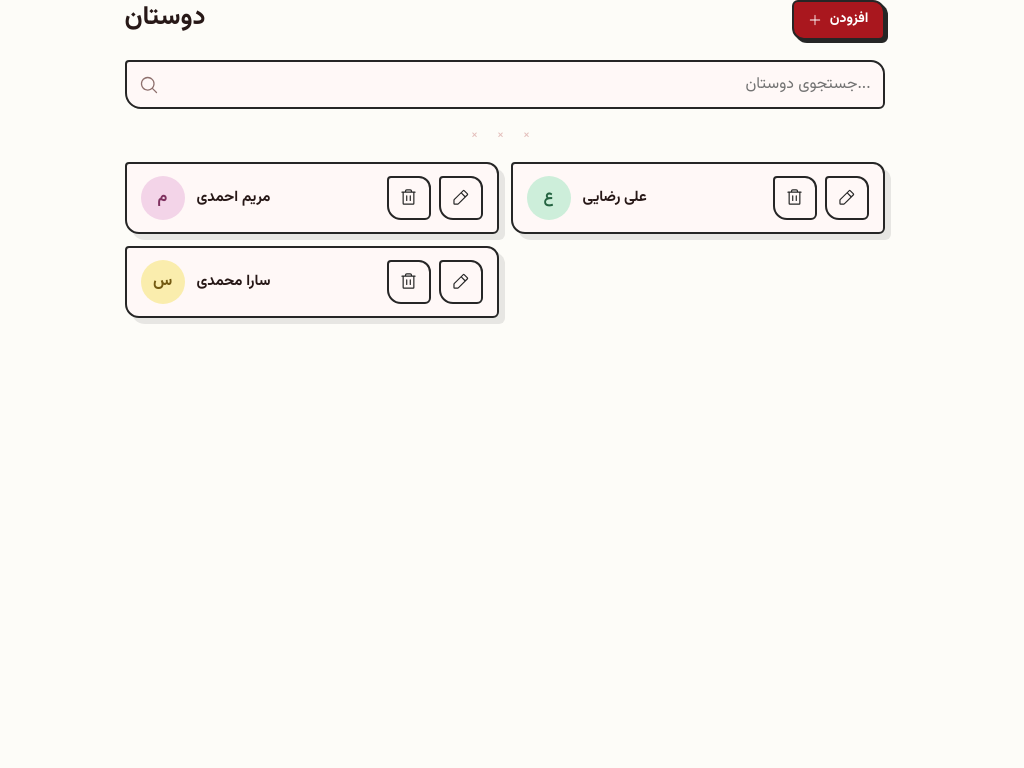
Test: FriendsPage › edit friend › shows a Persian message on a 404 (friend already deleted elsewhere)
Check: the text "مریم احمدی" is shown, box [196,186,270,209]
What coordinates should you click on to do the following:
click the button named "ویرایش مریم احمدی"
I would click on:
 (460, 198)
Its box is [438,176,482,220].
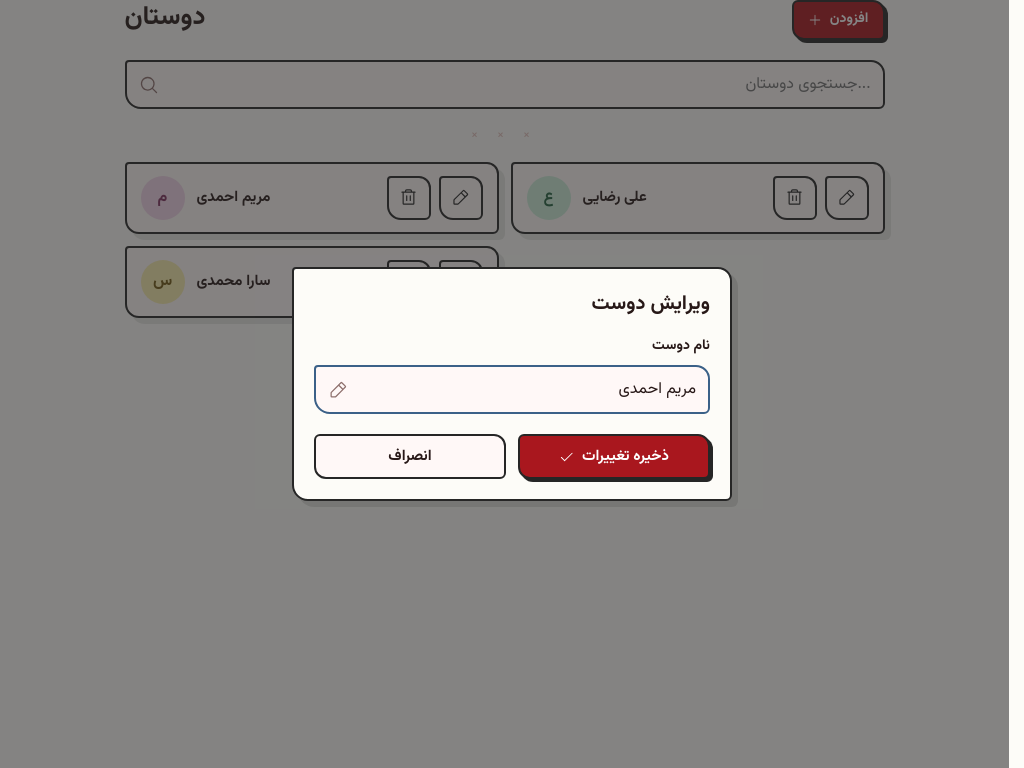
What coordinates should you click on to do the following:
click the button "ذخیره تغییرات"
I would click on:
 (614, 457)
Its box is [518,434,710,479].
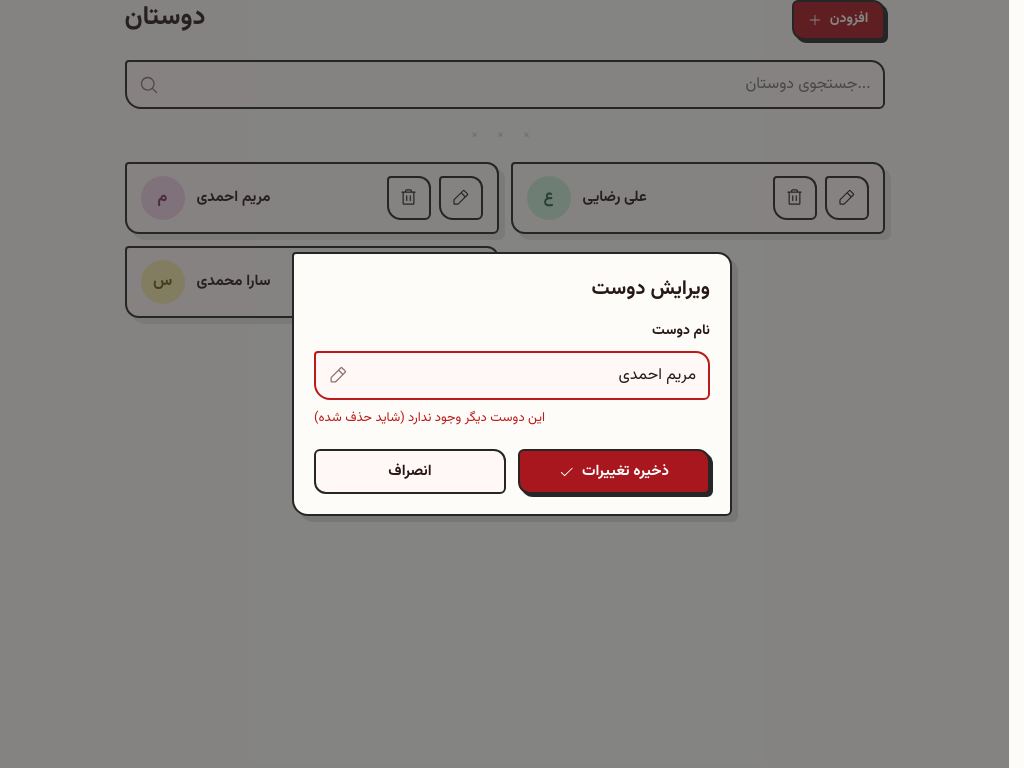
Check: the text "این دوست دیگر وجود ندارد (شاید حذف شده)" is shown, box [314,408,545,428]
